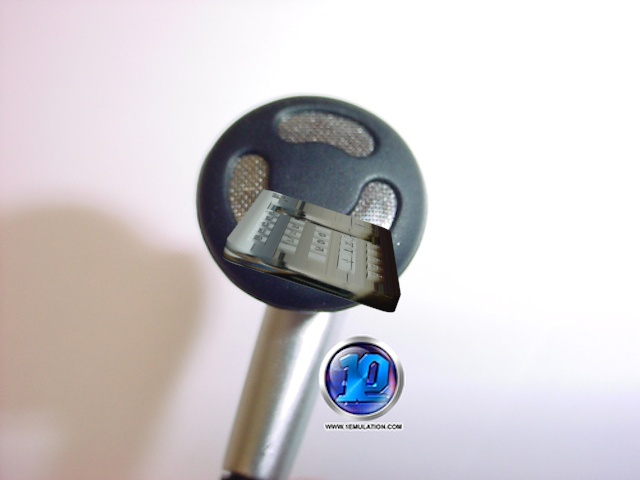calculator: (217, 185, 408, 320)
